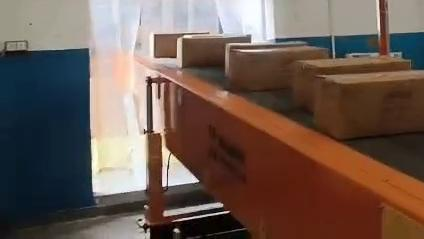box: (313, 70, 424, 139), (294, 57, 410, 111), (226, 46, 327, 91)
